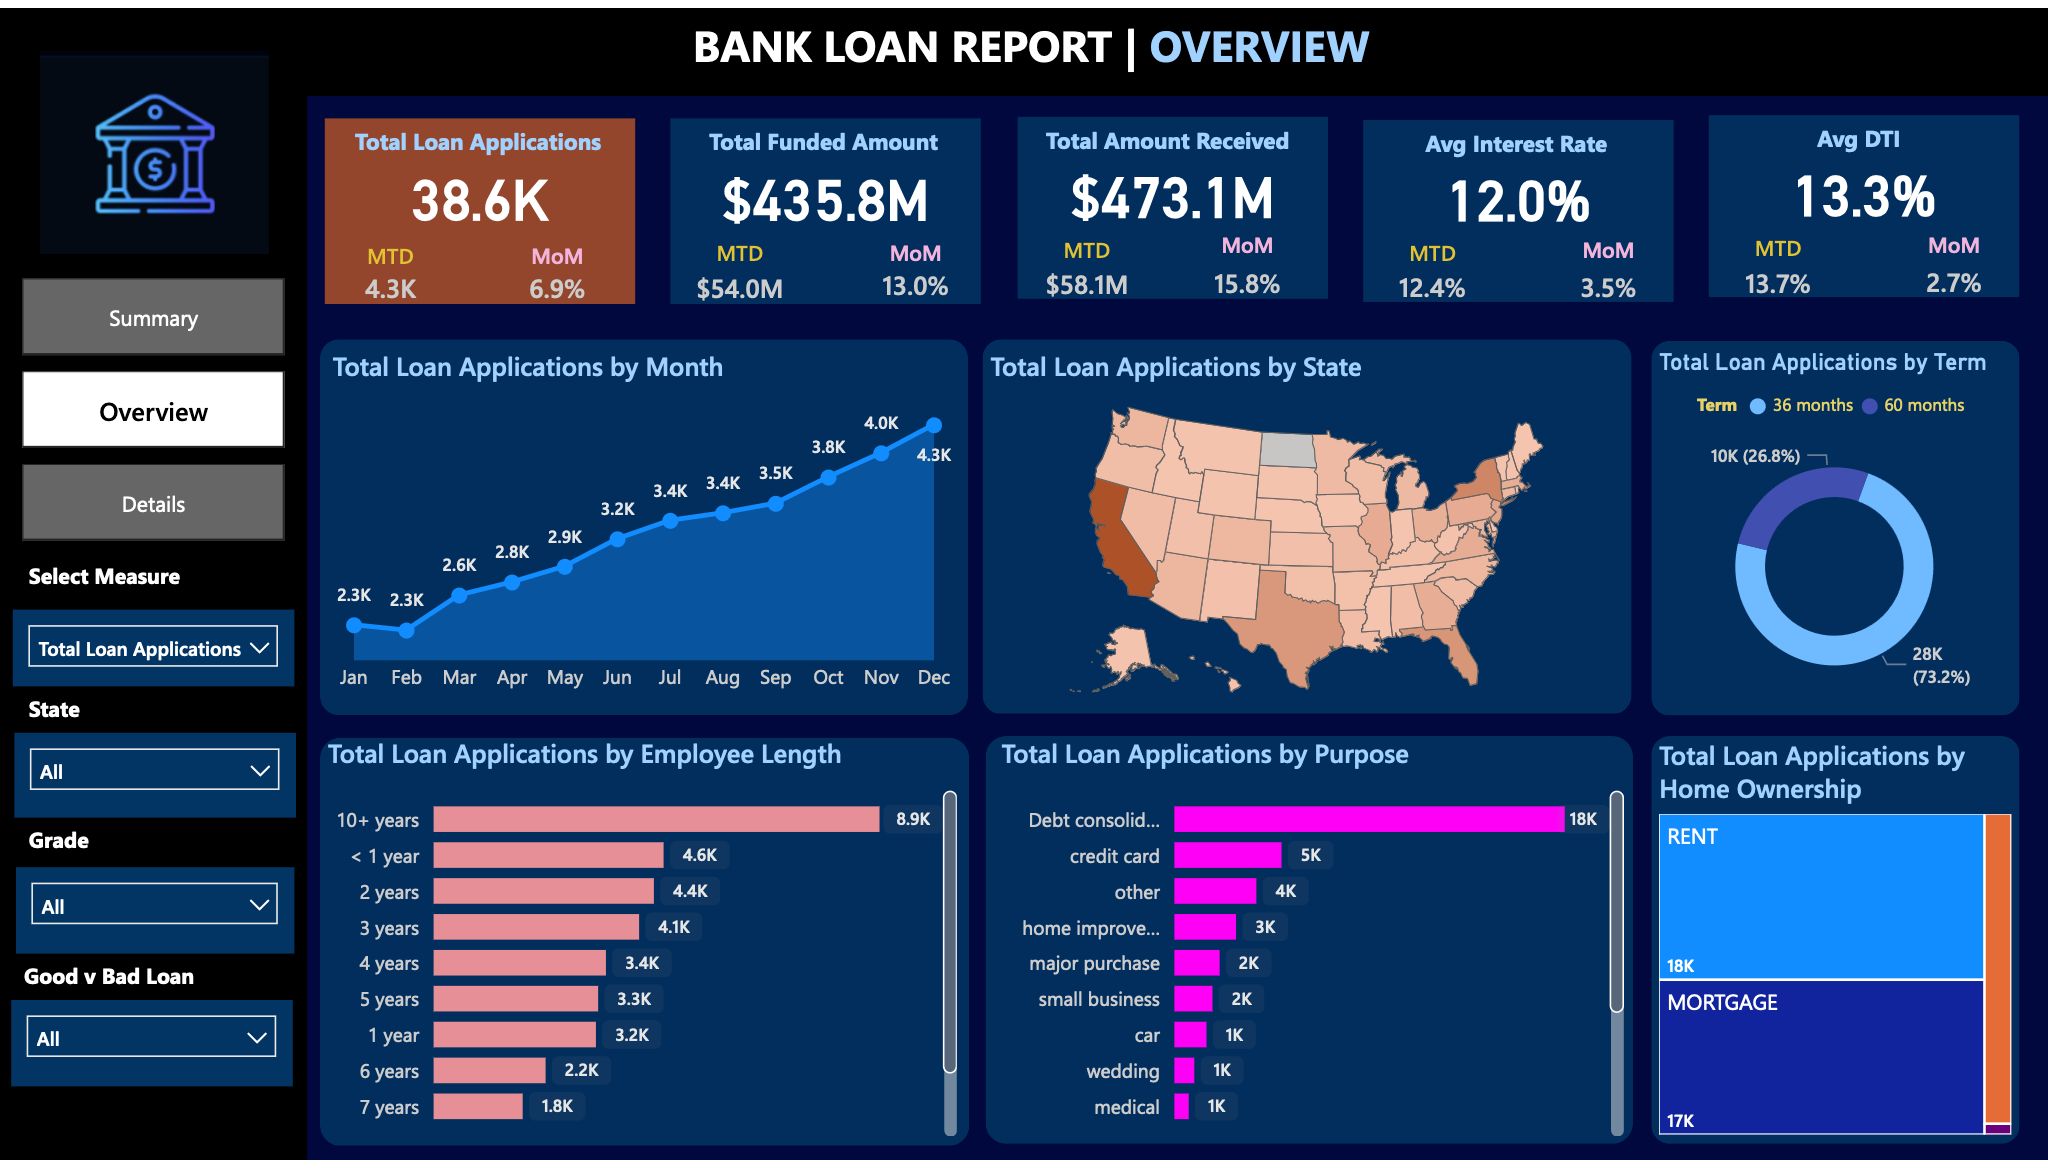

The dashboard page shown, as its layout file describes it:
{"tool":"powerbi","page":{"name":"Overview","canvas":[1280,720],"ordinal":1},"visuals":[{"type":"shape","box":[0,55.1,192,665],"z":0},{"type":"shape","box":[1068.1,66.7,194.3,113.7],"z":0,"group":"g5"},{"type":"shape","box":[635.8,68.2,194.3,113.7],"z":0,"group":"g3"},{"type":"shape","box":[203.1,68.8,194.4,116.4],"z":0,"group":"g1"},{"type":"shape","box":[419.5,68.8,194.4,116.4],"z":0,"group":"g2"},{"type":"shape","box":[852.1,69.8,194.3,113.7],"z":0,"group":"g4"},{"type":"shape","box":[0,0,1280,55],"z":1000},{"type":"card","fields":{"Values":["bank_loan_data.Avg DTI"]},"box":[1068.2,86.5,193.6,55],"z":1000,"group":"g5"},{"type":"card","fields":{"Values":["bank_loan_data.Total Amount Recieved"]},"box":[635.9,88,193.6,55],"z":1000,"group":"g3"},{"type":"card","fields":{"Values":["bank_loan_data.Total Loan Applications"]},"box":[203.2,89.1,193.8,56.2],"z":1000,"group":"g1"},{"type":"card","fields":{"Values":["bank_loan_data.Total Funded Amount"]},"box":[419.6,89.1,193.8,56.2],"z":1000,"group":"g2"},{"type":"card","fields":{"Values":["bank_loan_data.Avg Interest Rate"]},"box":[852.2,89.6,193.6,55],"z":1000,"group":"g4"},{"type":"textbox","box":[1065,66.7,197.4,31.4],"z":2000,"group":"g5"},{"type":"textbox","box":[632.7,68.2,197.4,31.4],"z":2000,"group":"g3"},{"type":"textbox","box":[200,68.8,197.5,32.2],"z":2000,"group":"g1"},{"type":"textbox","box":[416.4,68.8,197.5,32.2],"z":2000,"group":"g2"},{"type":"textbox","box":[849,69.8,197.4,31.4],"z":2000,"group":"g4"},{"type":"shape","box":[200,206.7,405,235],"z":2000},{"type":"shape","box":[0,0,1280,55],"z":3000},{"type":"card","title":"MTD","fields":{"Values":["bank_loan_data.MTD Avg DTI"]},"box":[1076.6,140.3,68.7,47.6],"z":3000,"group":"g5"},{"type":"card","title":"MTD","fields":{"Values":["bank_loan_data.MTD Total Amount Recieved"]},"box":[644.3,141.8,68.7,47.6],"z":3000,"group":"g3"},{"type":"card","title":"MTD","fields":{"Values":["bank_loan_data.MTD Avg Int Rate"]},"box":[860.6,143.4,68.7,47.6],"z":3000,"group":"g4"},{"type":"card","title":"MTD","fields":{"Values":["bank_loan_data.MTD Funded Amount"]},"box":[428,144.1,68.8,48.8],"z":3000,"group":"g2"},{"type":"card","title":"MTD","fields":{"Values":["bank_loan_data.MTD Loan Applications"]},"box":[219.4,145.3,50,45],"z":3000,"group":"g1"},{"type":"textbox","box":[428.3,0,451.7,60],"z":4000},{"type":"card","title":"MoM","fields":{"Values":["bank_loan_data.MoM Avg DTI"]},"box":[1194,138.6,54.6,51.6],"z":4000,"group":"g5"},{"type":"card","title":"MoM","fields":{"Values":["bank_loan_data.MoM Total Amount Recieved"]},"box":[743.1,139.5,73.3,51.7],"z":4000,"group":"g3"},{"type":"card","title":"MoM","fields":{"Values":["bank_loan_data.MoM Avg Int Rate"]},"box":[978,141.7,54.6,51.6],"z":4000,"group":"g4"},{"type":"card","title":"MoM","fields":{"Values":["bank_loan_data.MoM Total Funded Amount"]},"box":[539.1,144.2,66.7,45],"z":4000,"group":"g2"},{"type":"card","title":"MoM","fields":{"Values":["bank_loan_data.MoM Loan Application"]},"box":[324.4,145.3,48.8,45],"z":4000,"group":"g1"},{"type":"group","id":"g1","title":"Group 1","box":[200,68.8,197.5,121.2],"z":5000},{"type":"group","id":"g2","title":"Group 1","box":[416.4,68.8,197.5,124.1],"z":6000},{"type":"group","id":"g3","title":"Group 1","box":[632.7,68.2,197.4,122.9],"z":7000},{"type":"group","id":"g4","title":"Group 1","box":[849,69.8,197.2,122.8],"z":8000},{"type":"group","id":"g5","title":"Group 1","box":[1065,66.7,196.7,123.3],"z":9000},{"type":"slicer","fields":{"Values":["bank_loan_data.address_state"]},"box":[8.6,452.9,175.7,52.9],"z":10000},{"type":"textbox","box":[12.9,424.3,101.4,35.7],"z":11000},{"type":"slicer","fields":{"Values":["bank_loan_data.grade"]},"box":[10,537.1,174.3,54.3],"z":12000},{"type":"textbox","box":[12.9,505.7,60,31.4],"z":13000},{"type":"slicer","fields":{"Values":["bank_loan_data.Good v Bad Loan"]},"box":[7.1,620,175.7,54.3],"z":14000},{"type":"textbox","box":[10,591.4,132.9,28.6],"z":15000},{"type":"areaChart","fields":{"Y":["bank_loan_data.Total Loan Applications"],"Category":["Date Table.Month"]},"box":[203,213.1,398.9,223.2],"z":16000},{"type":"slicer","fields":{"Values":["Select Measure.Select Measure"]},"box":[7.5,376.2,176.2,47.5],"z":17000},{"type":"textbox","box":[12.9,341.4,147.1,35.7],"z":18000},{"type":"shape","box":[614.3,207.1,405.7,234.3],"z":19000},{"type":"shapeMap","fields":{"Value":["bank_loan_data.Total Loan Applications"],"Category":["bank_loan_data.address_state"]},"box":[614,213.4,405.8,229.1],"z":20000},{"type":"shape","box":[1031.6,208.1,230.4,234.3],"z":21000},{"type":"donutChart","fields":{"Y":["bank_loan_data.Total Loan Applications"],"Category":["bank_loan_data.term"]},"box":[1032.5,213.1,229,229],"z":22000},{"type":"shape","box":[200.3,455.6,405.8,255.3],"z":23000},{"type":"barChart","fields":{"Y":["bank_loan_data.Total Loan Applications"],"Category":["bank_loan_data.emp_length"]},"box":[200.2,455,403.2,254.9],"z":24000},{"type":"shape","box":[616.3,455,404.6,254.9],"z":25000},{"type":"barChart","fields":{"Y":["bank_loan_data.Total Loan Applications"],"Category":["bank_loan_data.purpose"]},"box":[620.6,455,398.9,254.9],"z":26000},{"type":"shape","box":[1032.5,455,230.4,254.9],"z":27000},{"type":"treemap","fields":{"Values":["bank_loan_data.Total Loan Applications"],"Group":["bank_loan_data.home_ownership"]},"box":[1032.5,456.5,230.4,253.4],"z":28000},{"type":"pageNavigator","box":[14.3,168.6,164.3,165.7],"z":29000},{"type":"image","box":[20,18.6,152.9,141.4],"z":30000}]}

Visuals, with their boxes in screenshot pixels (x1, y1, x2, y2), scaled from the page's 1280x720 canvas onto the 2048x1168 screenshot:
shape: [0,89,307,1167]
shape: [1709,108,2020,293]
shape: [1017,111,1328,295]
shape: [325,112,636,300]
shape: [671,112,982,300]
shape: [1363,113,1674,298]
shape: [0,0,2047,89]
card - bank_loan_data.Avg DTI: [1709,140,2019,230]
card - bank_loan_data.Total Amount Recieved: [1017,143,1327,232]
card - bank_loan_data.Total Loan Applications: [325,145,635,236]
card - bank_loan_data.Total Funded Amount: [671,145,981,236]
card - bank_loan_data.Avg Interest Rate: [1364,145,1673,235]
textbox: [1704,108,2020,159]
textbox: [1012,111,1328,162]
textbox: [320,112,636,164]
textbox: [666,112,982,164]
textbox: [1358,113,1674,164]
shape: [320,335,968,717]
shape: [0,0,2047,89]
"MTD" card: [1723,228,1832,305]
"MTD" card: [1031,230,1141,307]
"MTD" card: [1377,233,1487,310]
"MTD" card: [685,234,795,313]
"MTD" card: [351,236,431,309]
textbox: [685,0,1408,97]
"MoM" card: [1910,225,1998,309]
"MoM" card: [1189,226,1306,310]
"MoM" card: [1565,230,1652,314]
"MoM" card: [863,234,969,307]
"MoM" card: [519,236,597,309]
"Group 1" group: [320,112,636,308]
"Group 1" group: [666,112,982,313]
"Group 1" group: [1012,111,1328,310]
"Group 1" group: [1358,113,1674,312]
"Group 1" group: [1704,108,2019,308]
slicer - bank_loan_data.address_state: [14,735,295,821]
textbox: [21,688,183,746]
slicer - bank_loan_data.grade: [16,871,295,959]
textbox: [21,820,117,871]
slicer - bank_loan_data.Good v Bad Loan: [11,1006,292,1094]
textbox: [16,959,229,1006]
areaChart - bank_loan_data.Total Loan Applications x Date Table.Month: [325,346,963,708]
slicer - Select Measure.Select Measure: [12,610,294,687]
textbox: [21,554,256,612]
shape: [983,336,1632,716]
shapeMap - bank_loan_data.Total Loan Applications x bank_loan_data.address_state: [982,346,1632,718]
shape: [1651,338,2019,718]
donutChart - bank_loan_data.Total Loan Applications x bank_loan_data.term: [1652,346,2018,717]
shape: [320,739,970,1153]
barChart - bank_loan_data.Total Loan Applications x bank_loan_data.emp_length: [320,738,965,1152]
shape: [986,738,1633,1152]
barChart - bank_loan_data.Total Loan Applications x bank_loan_data.purpose: [993,738,1631,1152]
shape: [1652,738,2021,1152]
treemap - bank_loan_data.Total Loan Applications x bank_loan_data.home_ownership: [1652,741,2021,1152]
pageNavigator: [23,274,286,542]
image: [32,30,277,260]
